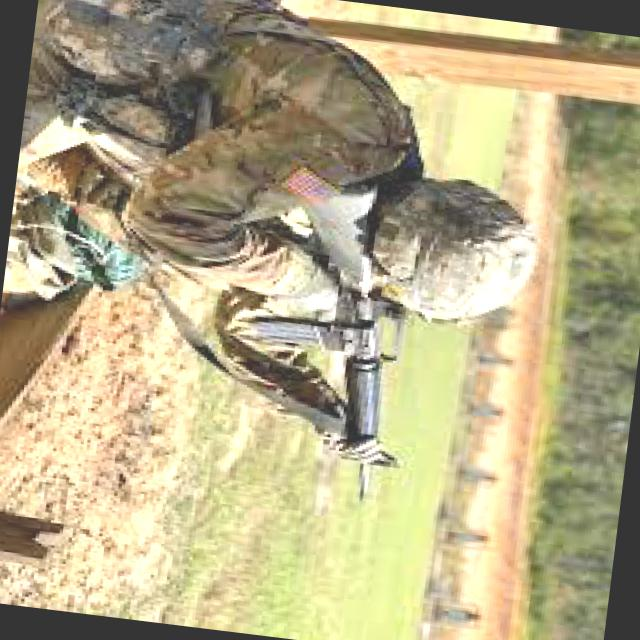long weapon: (225, 271, 416, 498)
